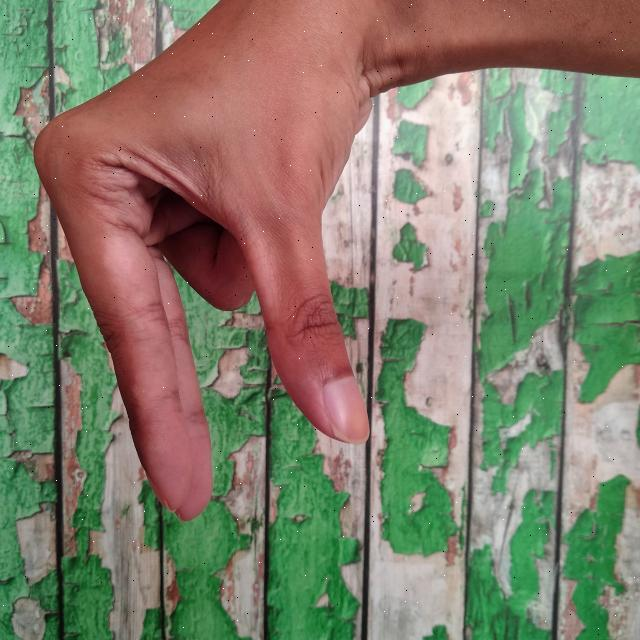Q: (29, 0, 640, 531)
